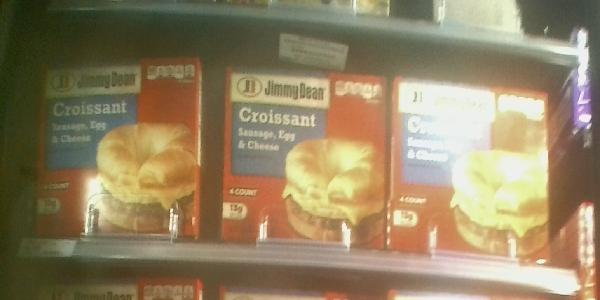icecream: (34, 60, 202, 238), (226, 67, 388, 248), (395, 77, 555, 260)
